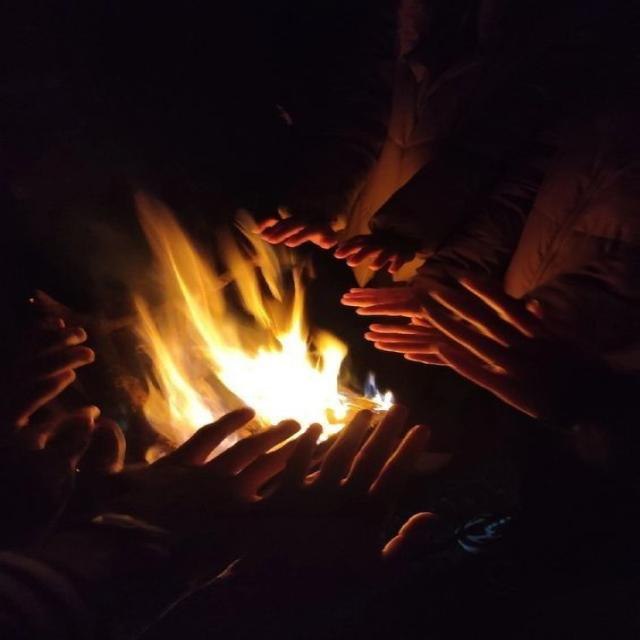fire: (122, 190, 393, 465)
